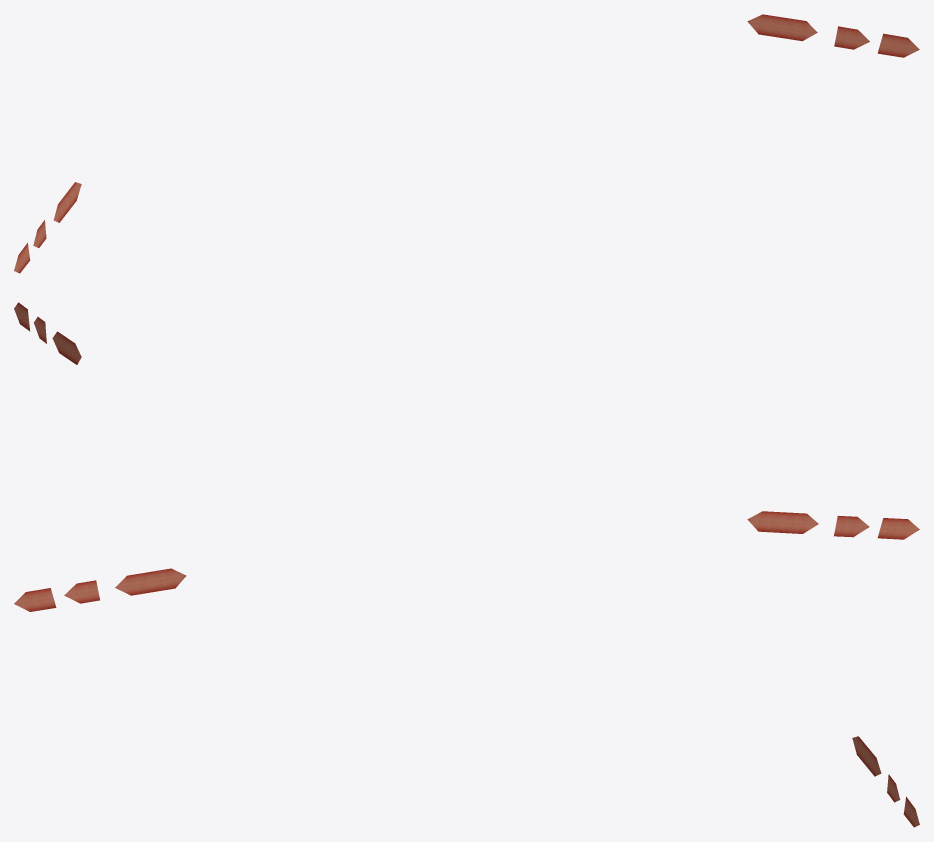
The model's file is vt49_booster_s02_on_l3.fbx.
3 views of the same model, one above another, from view 1: azimuth 30°, elevation 25°; view 2: azimuth 150°, elevation 25°; view 3: azimuth 330°, elevation 25° (orthographic).
Parts seen in each view (by area): view 1: mesh_node; view 2: mesh_node; view 3: mesh_node.
Boxes of the visible parts, x1=… form: mesh_node: x1=14, y1=14, x2=919, y2=273; mesh_node: x1=14, y1=302, x2=919, y2=539; mesh_node: x1=14, y1=568, x2=919, y2=827.
Size of the model in its own units: 30.46 by 1.16 by 3.07.
1 material, 1 textured.
